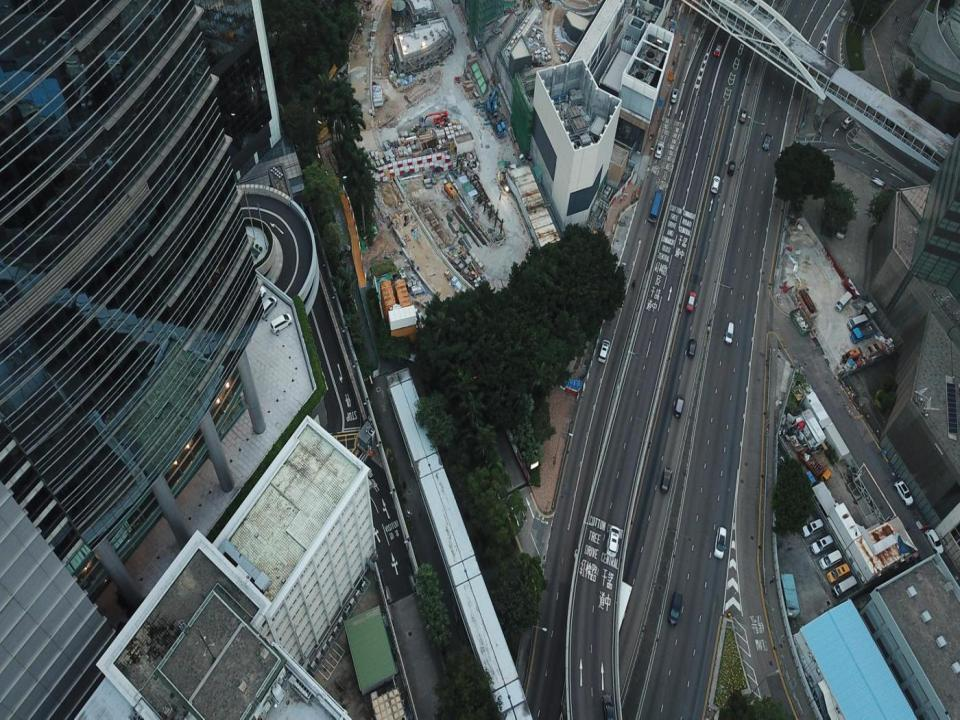bus: (649, 190, 662, 227)
car: (892, 479, 914, 506), (926, 526, 945, 554), (606, 524, 620, 559), (713, 524, 726, 558), (601, 690, 616, 718), (661, 465, 672, 493), (724, 319, 734, 347), (674, 393, 684, 420), (599, 339, 610, 362), (686, 337, 696, 359), (841, 112, 854, 128), (687, 290, 695, 314), (762, 132, 772, 150), (711, 174, 719, 196), (714, 41, 723, 60), (738, 105, 746, 123), (655, 142, 664, 158), (728, 160, 735, 180), (670, 86, 678, 103)
van: (669, 590, 683, 630), (826, 561, 850, 584), (831, 574, 856, 596), (819, 548, 842, 570), (270, 312, 292, 332), (802, 518, 824, 538), (244, 286, 266, 306), (257, 298, 276, 319), (812, 534, 832, 553), (834, 290, 853, 310), (848, 313, 867, 331)
